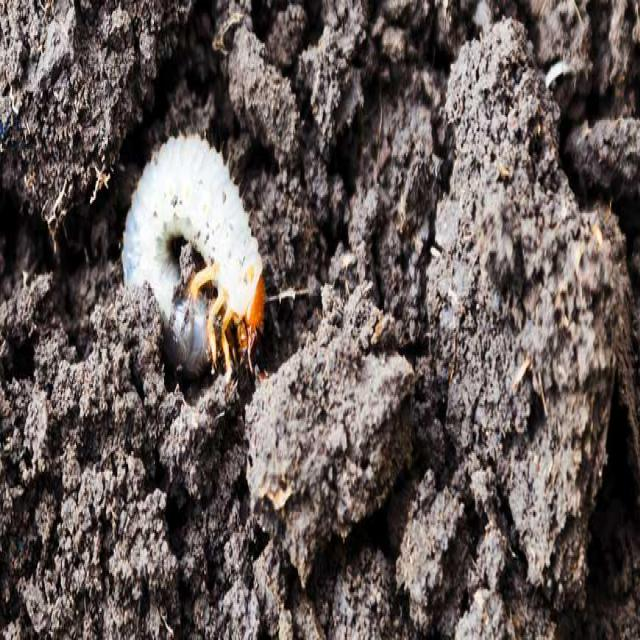Grub-Adult-: (106, 106, 282, 414)
